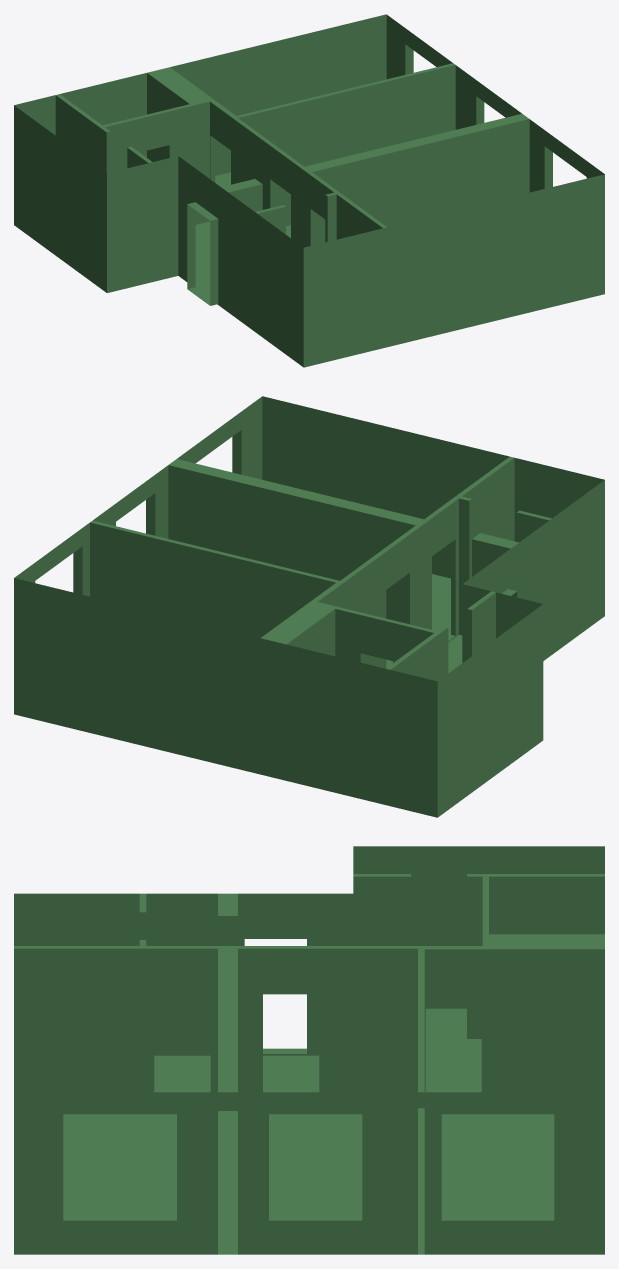
The model's file is Rooms_A_2_3_42.FBX.
The picture shows the model from 3 angles, top to bottom: view 1: azimuth 30°, elevation 25°; view 2: azimuth 150°, elevation 25°; view 3: azimuth 270°, elevation 25°; orthographic projection. The views are drawn at different scales.
Parts seen in each view (by area): view 1: Rooms_A_2_3_42; view 2: Rooms_A_2_3_42; view 3: Rooms_A_2_3_42.
Part boxes in pixels (<box>): Rooms_A_2_3_42: <box>14,14,604,367</box>; Rooms_A_2_3_42: <box>14,396,604,817</box>; Rooms_A_2_3_42: <box>14,846,604,1254</box>.
Bounding box in the file's own units: 9.3 × 2.8 × 9.24.
